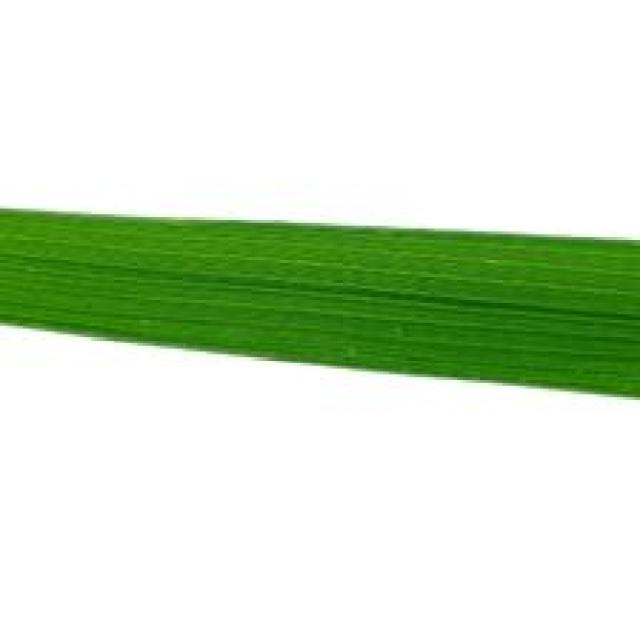Rice___Healthy_Rice_Plant: (0, 207, 637, 403)
